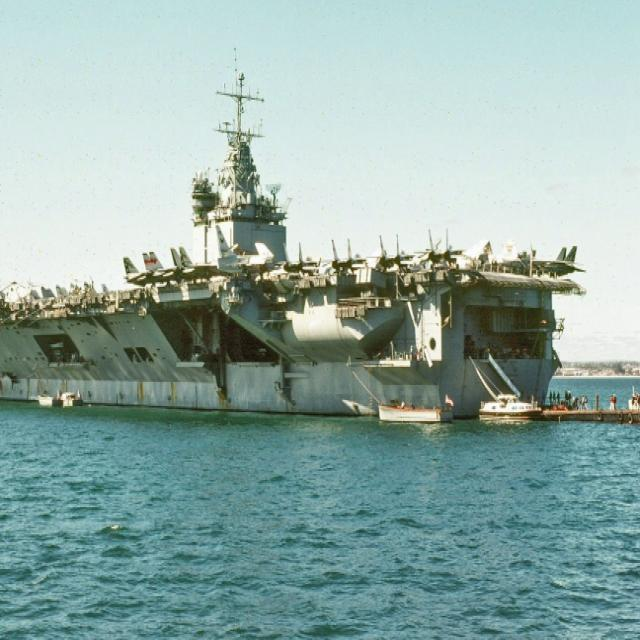Portanaves: (1, 37, 572, 425)
